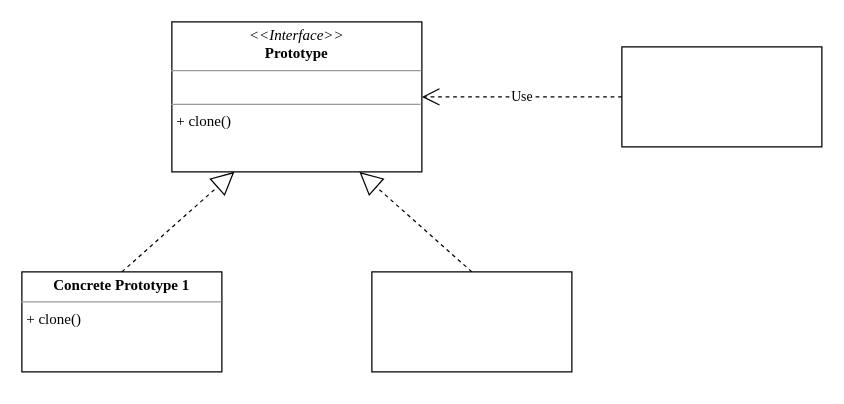
Some shapes in this 844 by 404 pixel diagram are drawn without their labels. The centre of each missing label's shape, as x and y in pixels:
"Client + action()" belongs at (721,96).
"Concrete Prototype 2 + clone()" belongs at (471,321).
